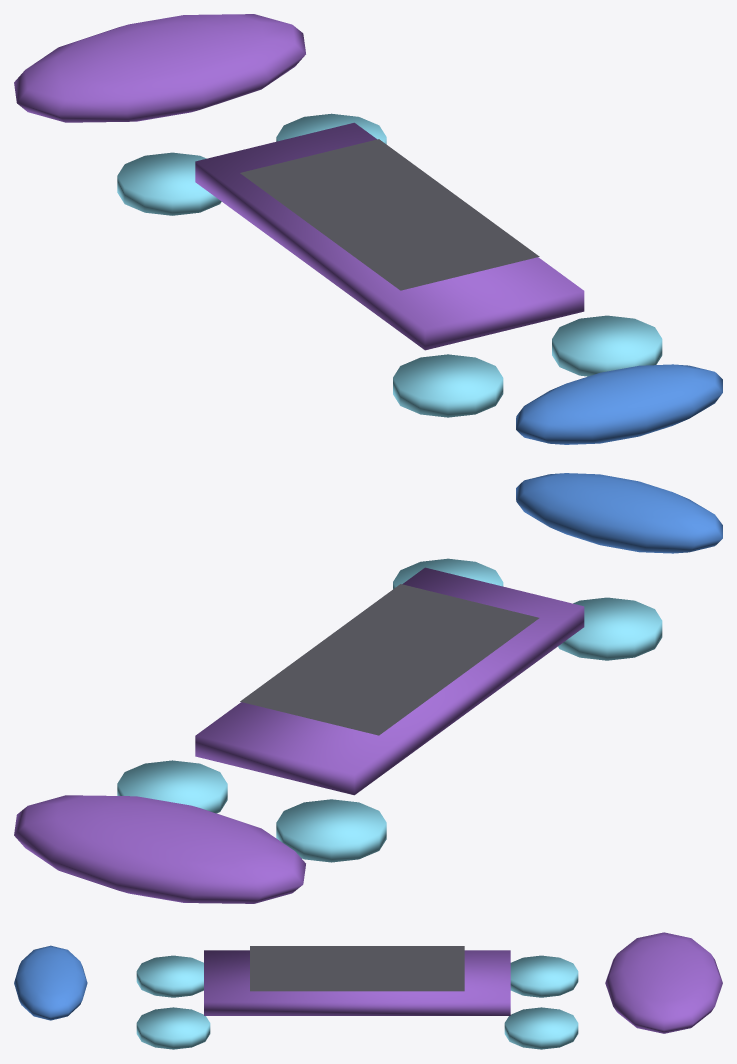
The model's file is mesh_hoverboard.fbx.
The picture shows the model from 3 angles, top to bottom: view 1: azimuth 30°, elevation 25°; view 2: azimuth 150°, elevation 25°; view 3: azimuth 270°, elevation 25°; orthographic projection. The views are drawn at different scales.
Parts seen in each view (by area): view 1: mesh_hoverboard; view 2: mesh_hoverboard; view 3: mesh_hoverboard.
Part boxes in pixels (x1=…): mesh_hoverboard: x1=14, y1=14, x2=722, y2=444; mesh_hoverboard: x1=14, y1=473, x2=722, y2=903; mesh_hoverboard: x1=14, y1=932, x2=722, y2=1049.
Bounding box in the file's own units: 0.36 × 0.081 × 1.16.
